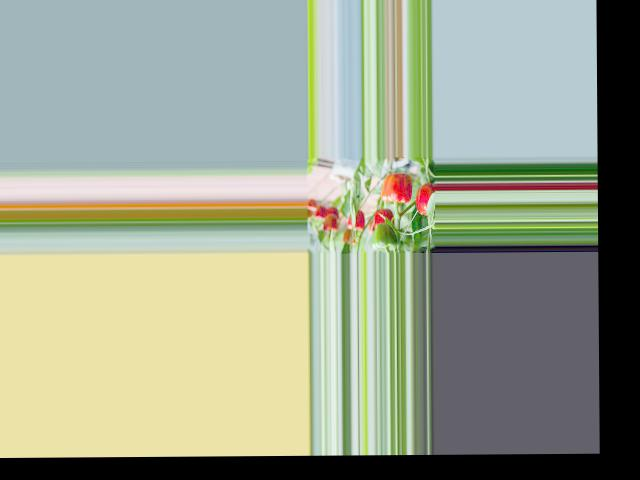bell_pepper: (345, 204, 365, 236)
